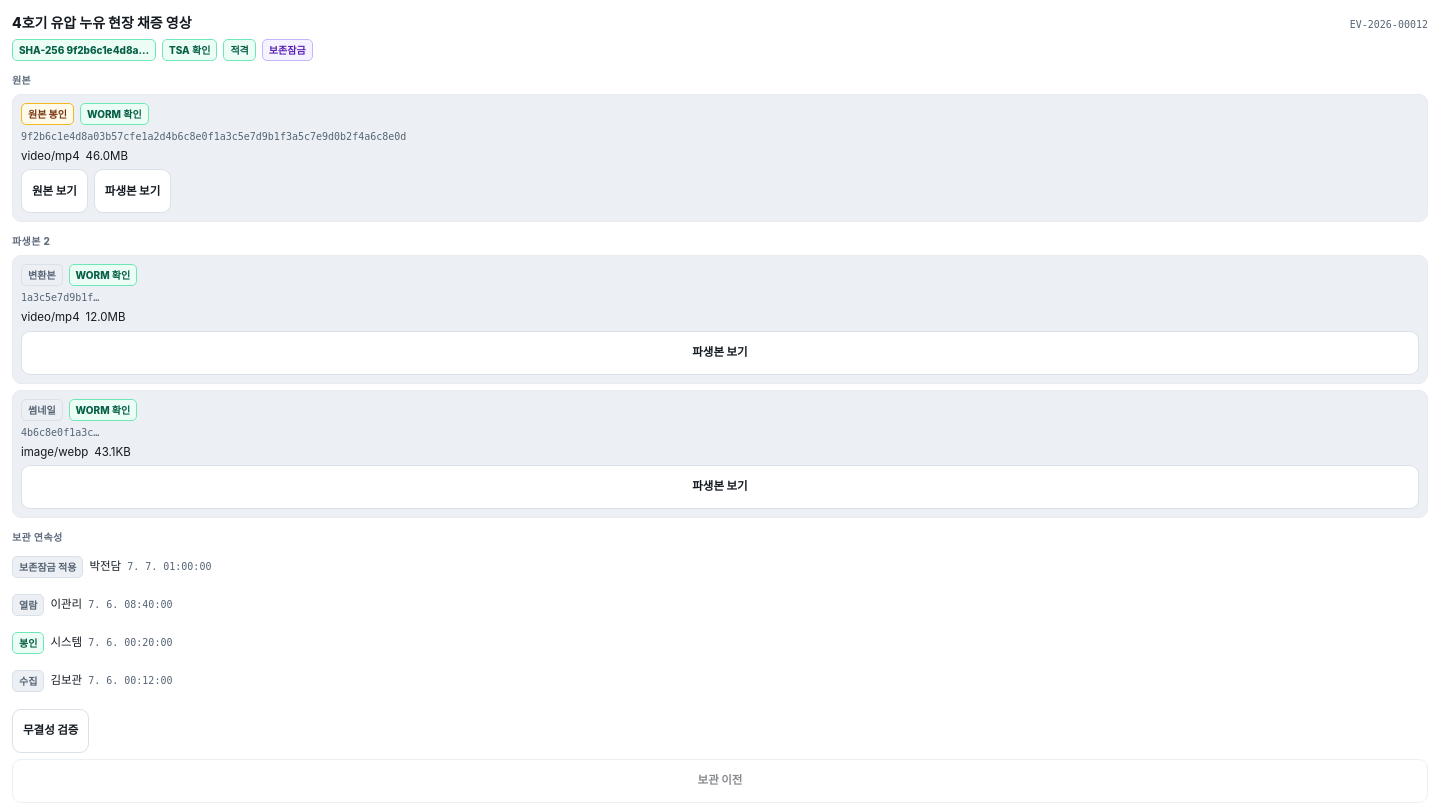
Scenario: EvidenceCard WORM split › denies access to the original and never streams it
Click the button "원본 보기": coordinates (54, 191) x1=21 y1=169 x2=88 y2=213
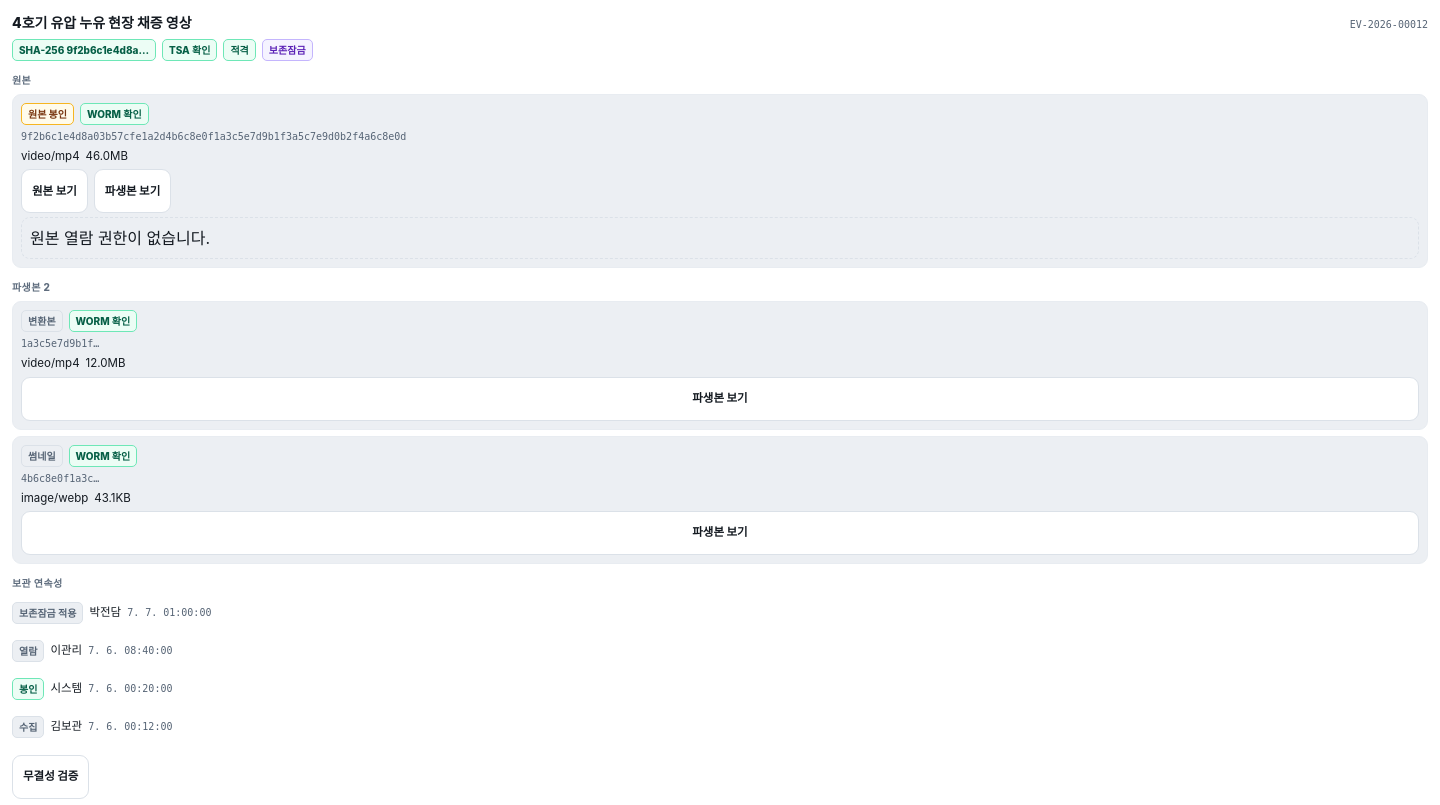
Expected: the message reads "원본 열람 권한이 없습니다.", x1=30 y1=228 x2=210 y2=248
